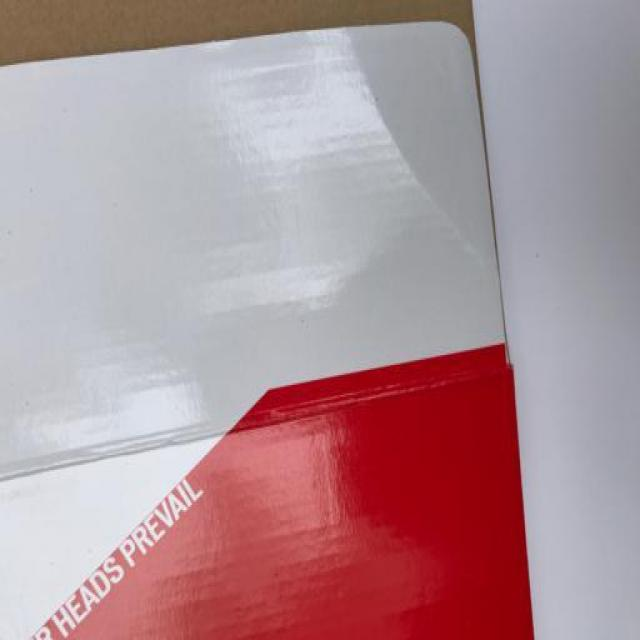cardboard: (1, 1, 573, 640)
